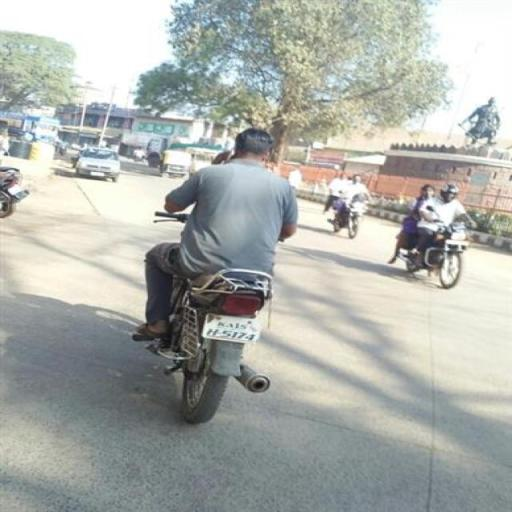using mobile: (218, 144, 242, 166)
